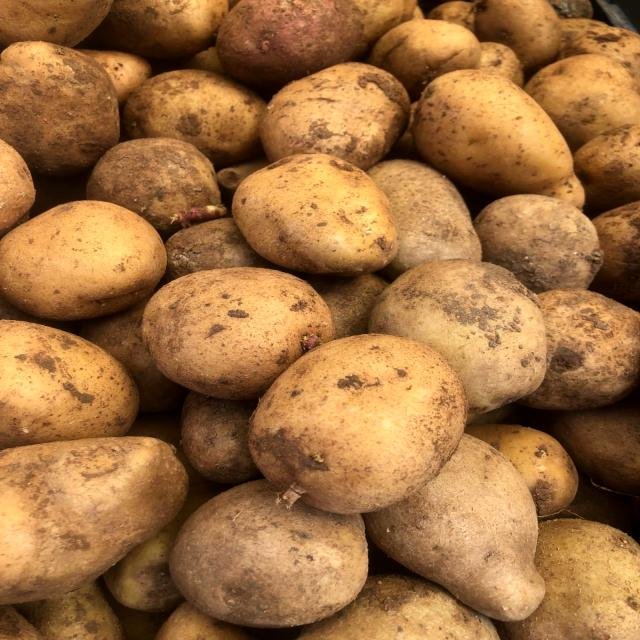potato: (254, 326, 486, 512), (135, 266, 356, 400), (217, 145, 419, 281), (400, 61, 596, 198), (0, 194, 179, 334), (250, 51, 430, 181)
